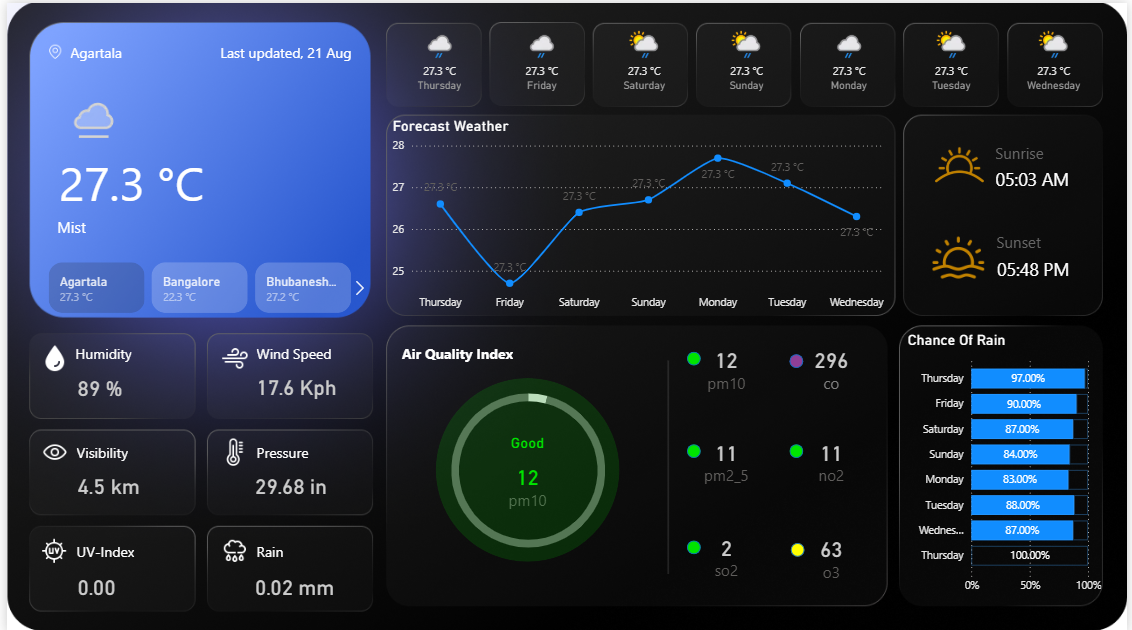

The page's visual inventory and layout, read from the dashboard file:
{"tool":"powerbi","page":{"name":"Page 1","canvas":[1280,720],"ordinal":0},"visuals":[{"type":"advancedSlicerVisual","fields":{"Values":["Locations.location.name"]},"box":[24.3,291.4,392.9,68.6],"z":0},{"type":"shape","box":[54.3,164.3,235.7,70],"z":1000},{"type":"shape","box":[54.9,234.6,314.2,42.5],"z":2000},{"type":"shape","box":[68.6,30.2,153.7,52.1],"z":3000},{"type":"shape","box":[240.1,30.2,177,52.1],"z":4000},{"type":"image","box":[34.3,42.5,41.2,26.1],"z":5000},{"type":"cardVisual","fields":{"Data":["Min(Current.current.condition.icon)"]},"box":[54.3,82.9,107,94],"z":6000},{"type":"image","box":[34.3,492.6,41.2,41.2],"z":7000},{"type":"shape","box":[75.5,487.1,81,52.1],"z":8000},{"type":"shape","box":[75.5,599.7,81,52.1],"z":9000},{"type":"shape","box":[281.3,599.7,81,52.1],"z":10000},{"type":"shape","box":[281.3,487.1,81,52.1],"z":11000},{"type":"shape","box":[281.3,374.6,122.1,52.1],"z":12000},{"type":"shape","box":[74.1,374.6,81,52.1],"z":13000},{"type":"image","box":[34.3,385.6,41.2,41.2],"z":14000},{"type":"image","box":[240.1,605.1,41.2,41.2],"z":15000},{"type":"image","box":[34.3,605.1,39.8,41.2],"z":16000},{"type":"image","box":[240.1,385.6,41.2,41.2],"z":17000},{"type":"image","box":[240.1,492.6,41.2,41.2],"z":18000},{"type":"cardVisual","fields":{"Data":["_Measures.humidity"]},"box":[68.6,408.9,144.1,64.5],"z":19000},{"type":"cardVisual","fields":{"Data":["_Measures.visibility"]},"box":[68.6,520.1,144.1,64.5],"z":20000},{"type":"cardVisual","fields":{"Data":["_Measures.pressure"]},"box":[271.7,520.1,144.1,64.5],"z":21000},{"type":"cardVisual","fields":{"Data":["Sum(Current.current.uv)"]},"box":[68.6,635.3,144.1,64.5],"z":22000},{"type":"cardVisual","fields":{"Data":["_Measures.rain"]},"box":[271.7,635.3,144.1,64.5],"z":23000},{"type":"cardVisual","fields":{"Data":["_Measures.wind_speed"]},"box":[273.1,407.5,144.1,64.5],"z":24000},{"type":"advancedSlicerVisual","fields":{"Values":["Forecast_Day.Day_Name"]},"box":[435,20.1,820.5,96],"z":25000},{"type":"lineChart","title":"Forecast Weather","fields":{"Category":["Forecast_Day.Day_Name"],"Y":["Sum(Forecast_Day.forecast.forecastday.day.avgtemp_c)"]},"box":[435.7,130,577.1,230],"z":26000},{"type":"shape","box":[1128.5,286.7,111.9,39.9],"z":27000},{"type":"shape","box":[1127,185.5,111.9,35.3],"z":28000},{"type":"image","box":[1045.7,142.9,85.7,84.3],"z":29000},{"type":"image","box":[1053.4,256.1,69,70.5],"z":30000},{"type":"shape","box":[1128.6,257.1,97.1,30],"z":31000},{"type":"shape","box":[1127.1,155.7,97.1,30],"z":32000},{"type":"hundredPercentStackedBarChart","title":"Chance Of Rain","fields":{"Category":["Forecast_Day.Day_Name"],"Y":["Sum(Forecast_Day.forecast.forecastday.day.daily_chance_of_rain)","_Measures.left_value_rain"]},"box":[1024.3,374.3,231.4,310],"z":33000},{"type":"shape","box":[447.1,372.9,297.1,52.9],"z":34000},{"type":"shape","box":[744.3,408.6,22.9,244.3],"z":35000},{"type":"cardVisual","fields":{"Data":["Sum(Current.current.air_quality.pm10)"]},"box":[767.1,372.9,110,95.7],"z":36000},{"type":"cardVisual","fields":{"Data":["Sum(Current.current.air_quality.pm2_5)"]},"box":[767.1,478.6,110,95.7],"z":37000},{"type":"cardVisual","fields":{"Data":["Sum(Current.current.air_quality.so2)"]},"box":[767.1,587.1,110,95.7],"z":38000},{"type":"cardVisual","fields":{"Data":["Sum(Current.current.air_quality.o3)"]},"box":[887.1,588.6,110,95.7],"z":39000},{"type":"cardVisual","fields":{"Data":["Sum(Current.current.air_quality.no2)"]},"box":[887.1,478.6,110,95.7],"z":40000},{"type":"cardVisual","fields":{"Data":["Sum(Current.current.air_quality.co)"]},"box":[887.1,372.9,110,95.7],"z":41000},{"type":"shape","box":[777.1,398.6,15.7,15.7],"z":42000},{"type":"shape","box":[777.1,504.3,15.7,15.7],"z":43000},{"type":"shape","box":[777.1,614.3,15.7,15.7],"z":44000},{"type":"shape","box":[895.7,617.1,15.7,15.7],"z":45000},{"type":"shape","box":[894.3,504.3,15.7,15.7],"z":46000},{"type":"shape","box":[894.3,401.4,15.7,15.7],"z":47000},{"type":"cardVisual","fields":{"Data":["Sum(Current.current.air_quality.pm10)"]},"box":[540,492.9,110,95.7],"z":48000},{"type":"donutChart","fields":{"Y":["Sum(Current.current.air_quality.pm10)","_Measures.Left_value_pm10"]},"box":[485.7,424.3,220,220],"z":49000},{"type":"shape","box":[490,428.6,210,210],"z":50000}]}

Visuals, with their boxes in screenshot pixels (x1, y1, x2, y2), scaled from the page's 1280x720 canvas onto the 1132x630 screenshot:
advancedSlicerVisual - Locations.location.name: x1=21 y1=255 x2=369 y2=315
shape: x1=48 y1=144 x2=256 y2=205
shape: x1=49 y1=205 x2=326 y2=242
shape: x1=61 y1=26 x2=197 y2=72
shape: x1=212 y1=26 x2=369 y2=72
image: x1=30 y1=37 x2=67 y2=60
cardVisual - Min(Current.current.condition.icon): x1=48 y1=73 x2=143 y2=155
image: x1=30 y1=431 x2=67 y2=467
shape: x1=67 y1=426 x2=138 y2=472
shape: x1=67 y1=525 x2=138 y2=570
shape: x1=249 y1=525 x2=320 y2=570
shape: x1=249 y1=426 x2=320 y2=472
shape: x1=249 y1=328 x2=357 y2=373
shape: x1=66 y1=328 x2=137 y2=373
image: x1=30 y1=337 x2=67 y2=373
image: x1=212 y1=529 x2=249 y2=566
image: x1=30 y1=529 x2=66 y2=566
image: x1=212 y1=337 x2=249 y2=373
image: x1=212 y1=431 x2=249 y2=467
cardVisual - _Measures.humidity: x1=61 y1=358 x2=188 y2=414
cardVisual - _Measures.visibility: x1=61 y1=455 x2=188 y2=512
cardVisual - _Measures.pressure: x1=240 y1=455 x2=368 y2=512
cardVisual - Sum(Current.current.uv): x1=61 y1=556 x2=188 y2=612
cardVisual - _Measures.rain: x1=240 y1=556 x2=368 y2=612
cardVisual - _Measures.wind_speed: x1=242 y1=357 x2=369 y2=413
advancedSlicerVisual - Forecast_Day.Day_Name: x1=385 y1=18 x2=1110 y2=102
"Forecast Weather" lineChart: x1=385 y1=114 x2=896 y2=315
shape: x1=998 y1=251 x2=1097 y2=286
shape: x1=997 y1=162 x2=1096 y2=193
image: x1=925 y1=125 x2=1001 y2=199
image: x1=932 y1=224 x2=993 y2=286
shape: x1=998 y1=225 x2=1084 y2=251
shape: x1=997 y1=136 x2=1083 y2=162
"Chance Of Rain" hundredPercentStackedBarChart: x1=906 y1=328 x2=1111 y2=599
shape: x1=395 y1=326 x2=658 y2=373
shape: x1=658 y1=358 x2=678 y2=571
cardVisual - Sum(Current.current.air_quality.pm10): x1=678 y1=326 x2=776 y2=410
cardVisual - Sum(Current.current.air_quality.pm2_5): x1=678 y1=419 x2=776 y2=503
cardVisual - Sum(Current.current.air_quality.so2): x1=678 y1=514 x2=776 y2=597
cardVisual - Sum(Current.current.air_quality.o3): x1=785 y1=515 x2=882 y2=599
cardVisual - Sum(Current.current.air_quality.no2): x1=785 y1=419 x2=882 y2=503
cardVisual - Sum(Current.current.air_quality.co): x1=785 y1=326 x2=882 y2=410
shape: x1=687 y1=349 x2=701 y2=363
shape: x1=687 y1=441 x2=701 y2=455
shape: x1=687 y1=538 x2=701 y2=551
shape: x1=792 y1=540 x2=806 y2=554
shape: x1=791 y1=441 x2=805 y2=455
shape: x1=791 y1=351 x2=805 y2=365
cardVisual - Sum(Current.current.air_quality.pm10): x1=478 y1=431 x2=575 y2=515
donutChart - Sum(Current.current.air_quality.pm10) x _Measures.Left_value_pm10: x1=430 y1=371 x2=624 y2=564
shape: x1=433 y1=375 x2=619 y2=559
